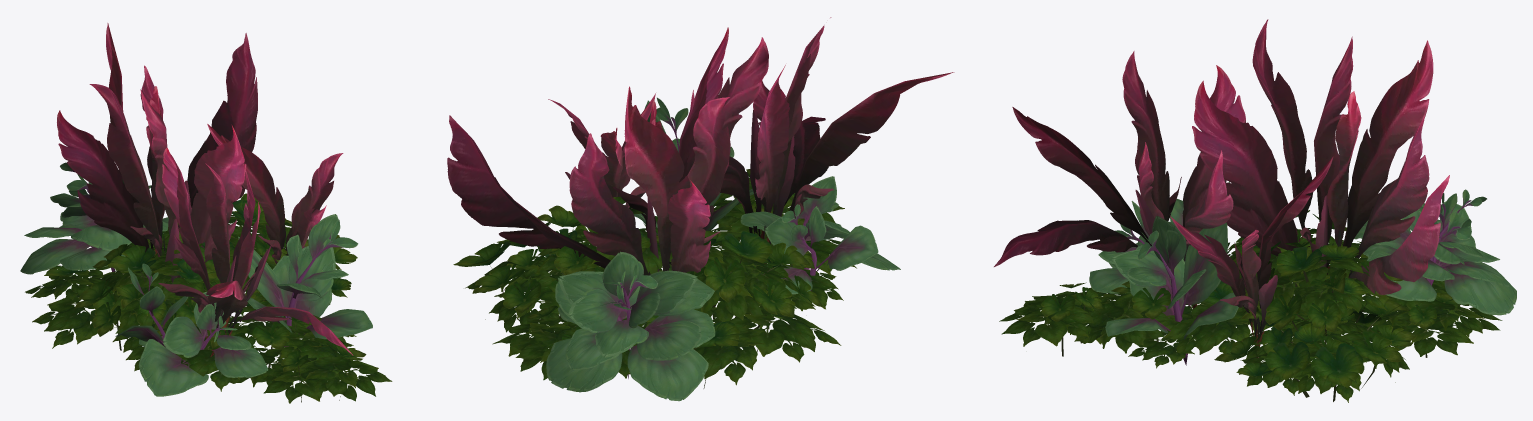
The picture shows the model from 3 angles, left to right: view 1: azimuth 30°, elevation 25°; view 2: azimuth 150°, elevation 25°; view 3: azimuth 270°, elevation 25°; orthographic projection. The views are drawn at different scales.
Bounding box in the file's own units: 10.08 × 8.43 × 13.39.
3 materials, 3 textured.
